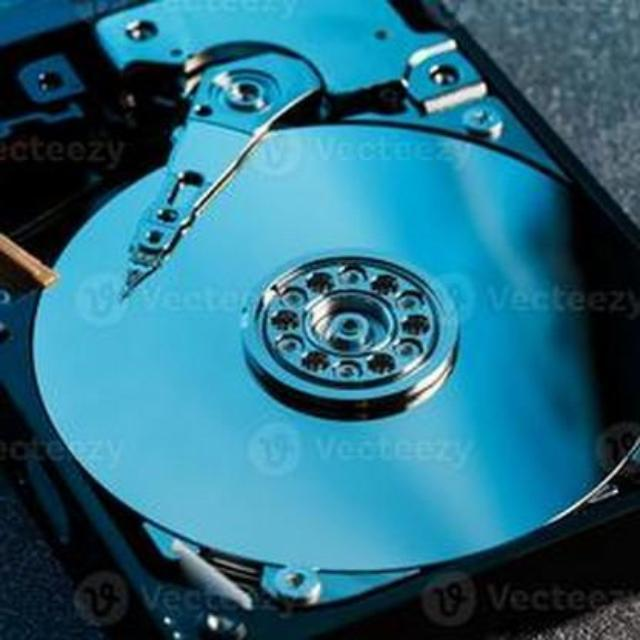DISK: (0, 0, 638, 617)
